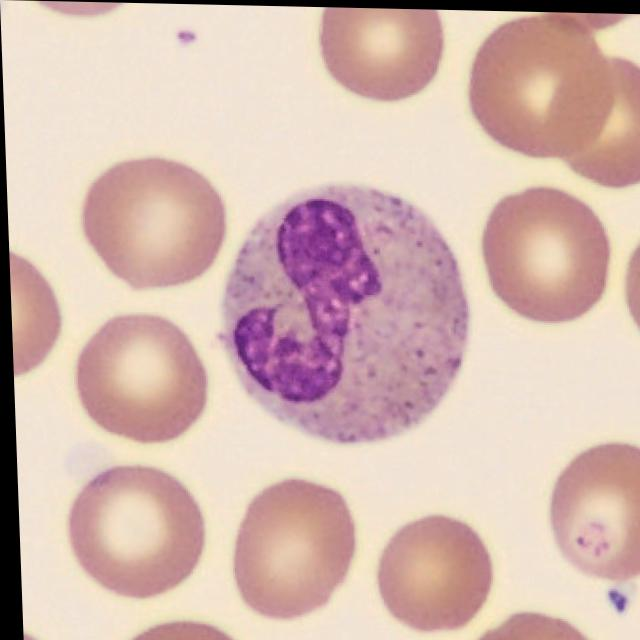Neutrofilo segmentado: (228, 179, 467, 443)
